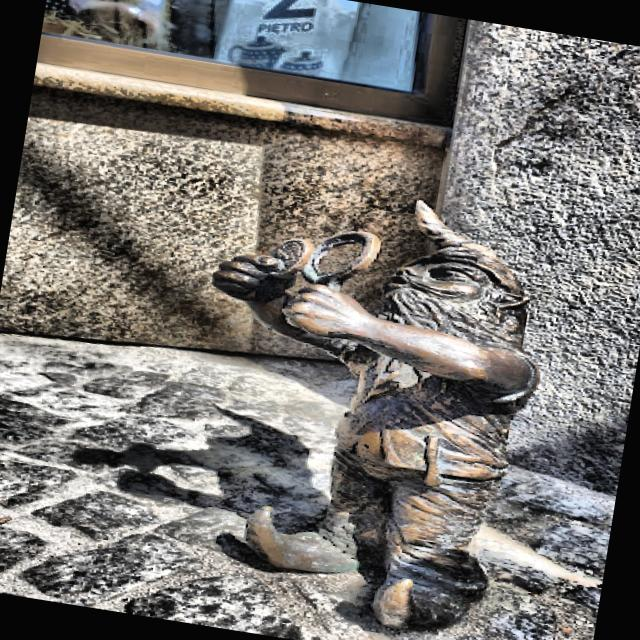Kolekcjoner: (213, 201, 538, 629)
